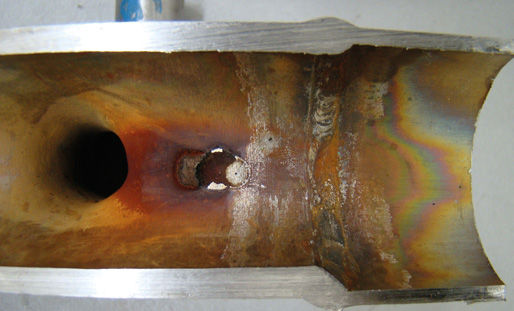rust: (1, 51, 508, 268)
